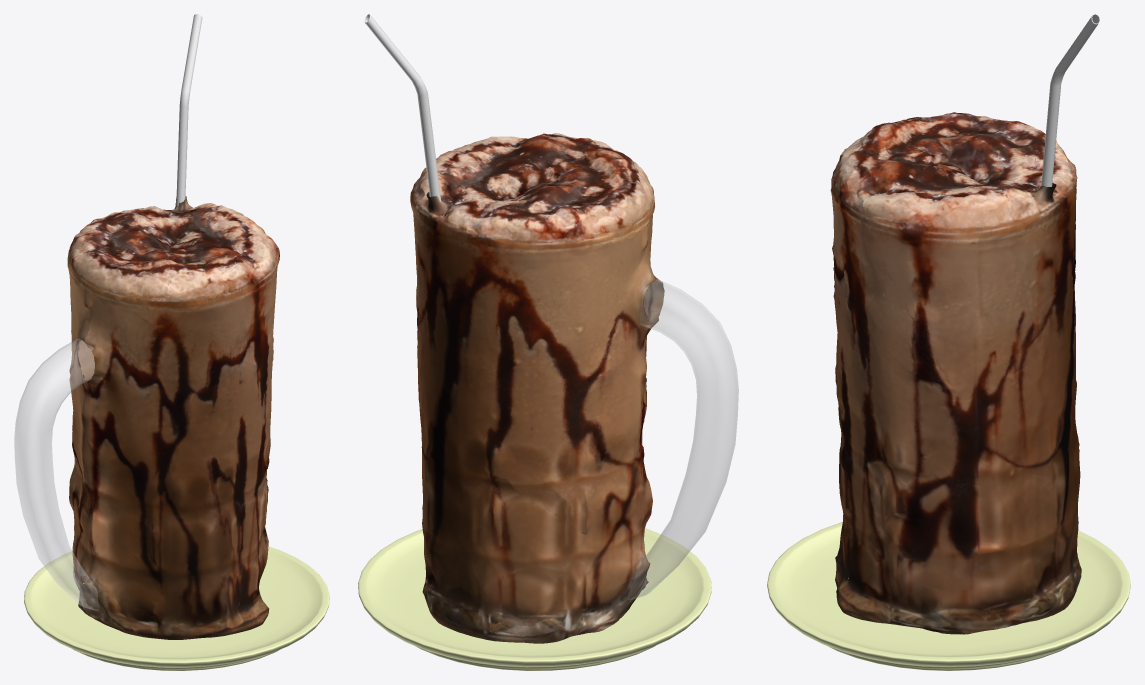
3 renders of one model, left to right at view 1: azimuth 30°, elevation 25°; view 2: azimuth 150°, elevation 25°; view 3: azimuth 270°, elevation 25°, orthographic. The views are drawn at different scales.
Parts seen in each view (by area): view 1: polySurface43; view 2: polySurface43; view 3: polySurface43.
Boxes of the visible parts, bbox=[...] form: polySurface43: bbox=[14, 14, 329, 670]; polySurface43: bbox=[358, 14, 738, 670]; polySurface43: bbox=[767, 14, 1130, 670].
Bounding box in the file's own units: 9.2 × 15.86 × 8.19.
4 materials, 1 textured.
